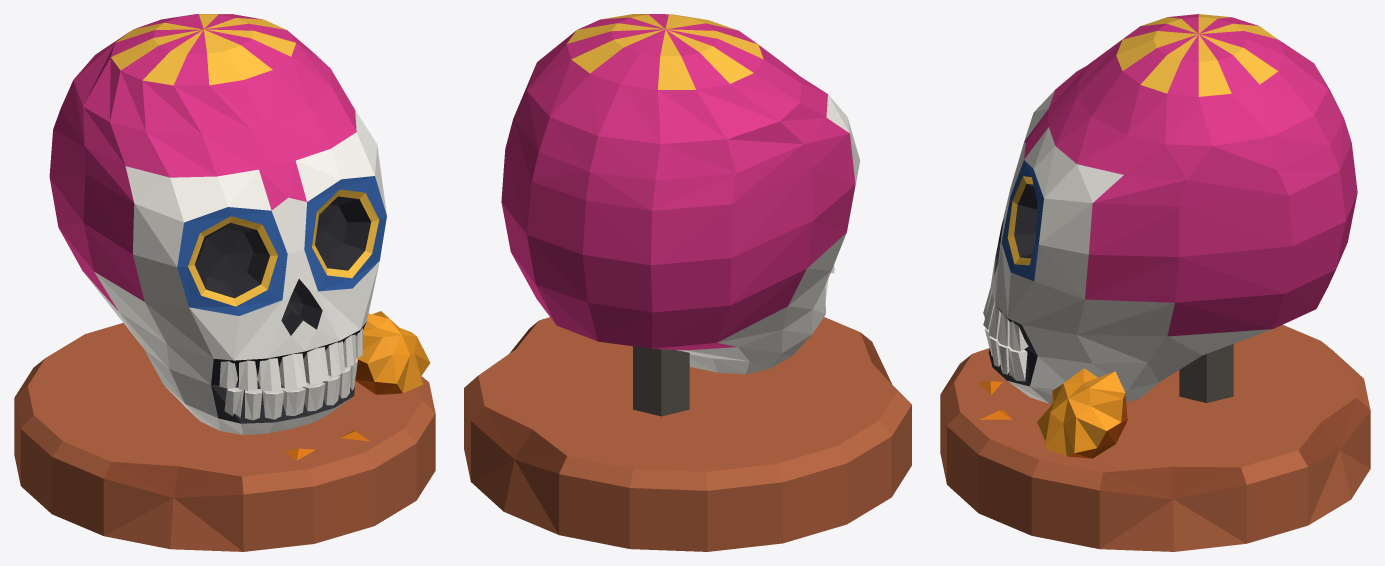
The model's file is altar-figurine-908964.glb.
3 views of the same model, side by side, from view 1: azimuth 30°, elevation 25°; view 2: azimuth 150°, elevation 25°; view 3: azimuth 270°, elevation 25° (orthographic). The views are drawn at different scales.
Parts seen in each view (by area): view 1: figurine-paint, figurine-clay, marigold-head; view 2: figurine-paint, figurine-clay; view 3: figurine-paint, figurine-clay, marigold-head.
Boxes of the visible parts, x1,y1,x2,y2 form: figurine-paint: [49, 14, 386, 434]; figurine-clay: [14, 323, 435, 551]; marigold-head: [355, 311, 430, 394]; figurine-paint: [501, 14, 860, 374]; figurine-clay: [464, 317, 911, 551]; figurine-paint: [983, 14, 1357, 403]; figurine-clay: [940, 324, 1370, 551]; marigold-head: [1037, 368, 1127, 458].
Bounding box in the file's own units: 0.1096 × 0.12 × 0.1096.
